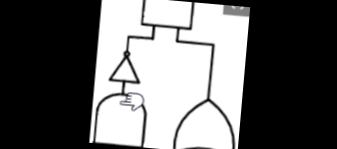and: (134, 0, 193, 32)
not: (103, 46, 143, 86)
or: (168, 86, 240, 149)
